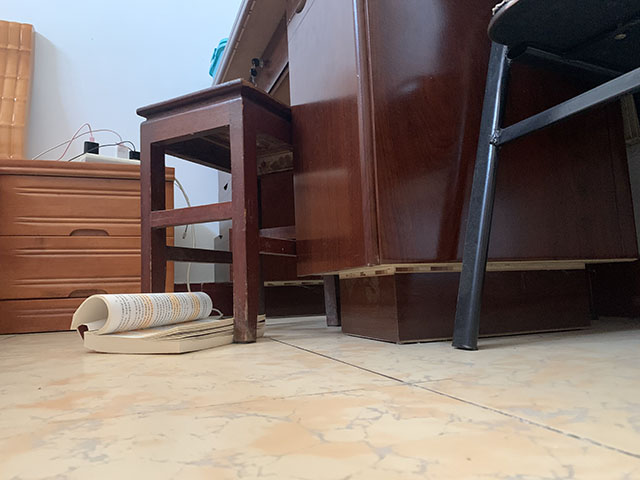book: (68, 290, 234, 356)
cabinet: (1, 158, 176, 335)
stool: (450, 1, 640, 353), (135, 76, 342, 346)
table: (213, 1, 640, 347)
wire: (174, 175, 225, 317)
